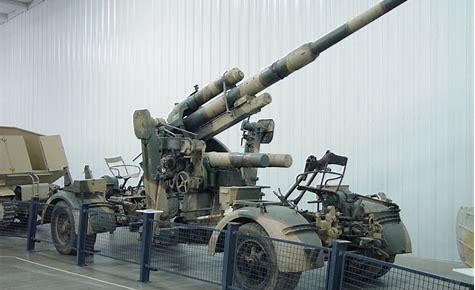MIL_SPG: (42, 0, 411, 289)
